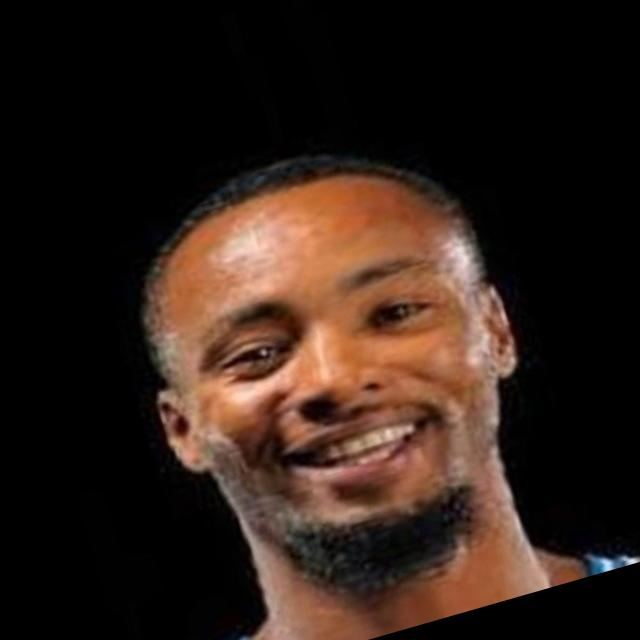bareface: (132, 151, 538, 584)
